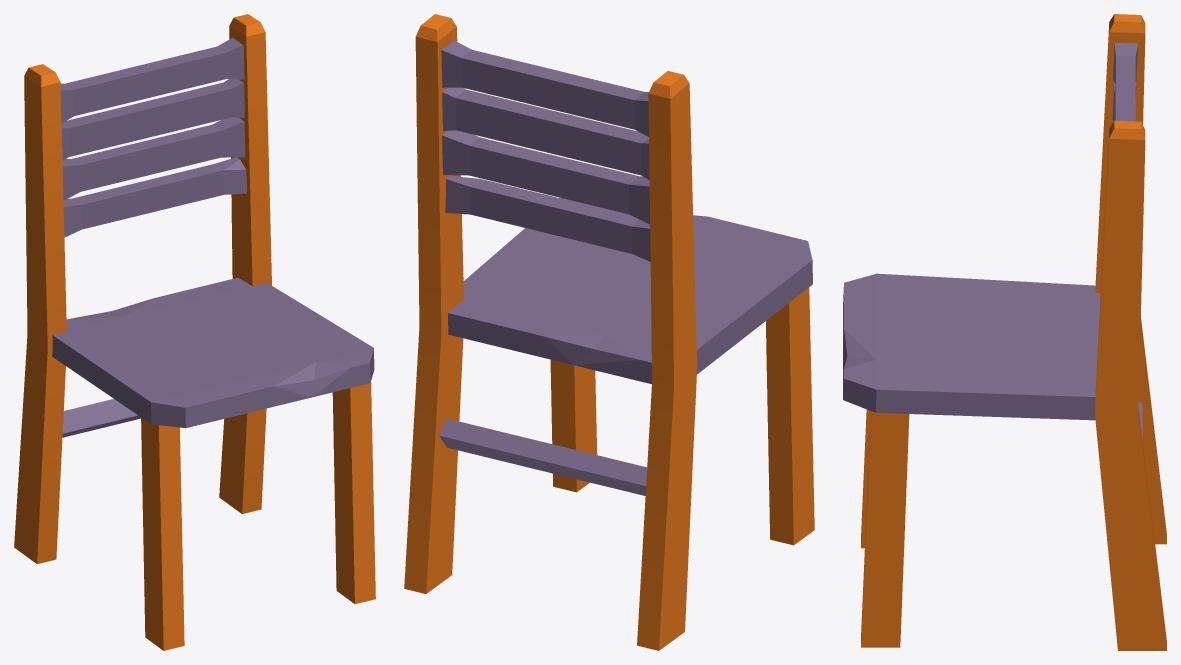
Rendered from Chair.fbx.
3 views of the same model, side by side, from view 1: azimuth 30°, elevation 25°; view 2: azimuth 150°, elevation 25°; view 3: azimuth 270°, elevation 25° (orthographic). The views are drawn at different scales.
Visible parts, largest first — view 1: Chair; view 2: Chair; view 3: Chair.
Boxes of the visible parts, x1,y1,x2,y2 form: Chair: (14, 14, 375, 650); Chair: (404, 14, 814, 650); Chair: (843, 14, 1166, 650).
Bounding box in the file's own units: 46.87 × 97.59 × 54.92.
1 material, 1 textured.
